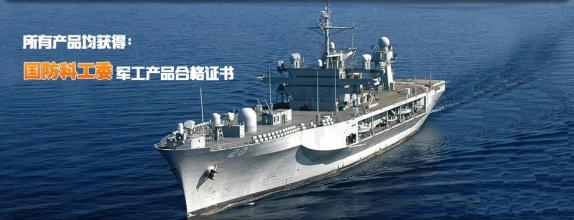warship: (160, 14, 456, 216)
